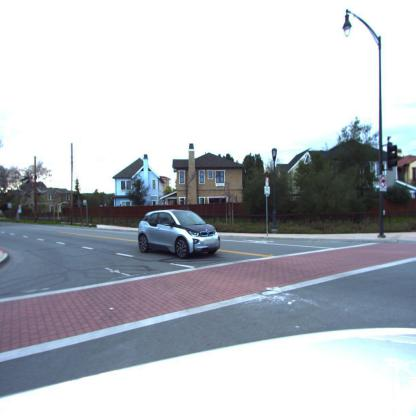car: (138, 208, 223, 257)
traffic light: (387, 144, 398, 168)
